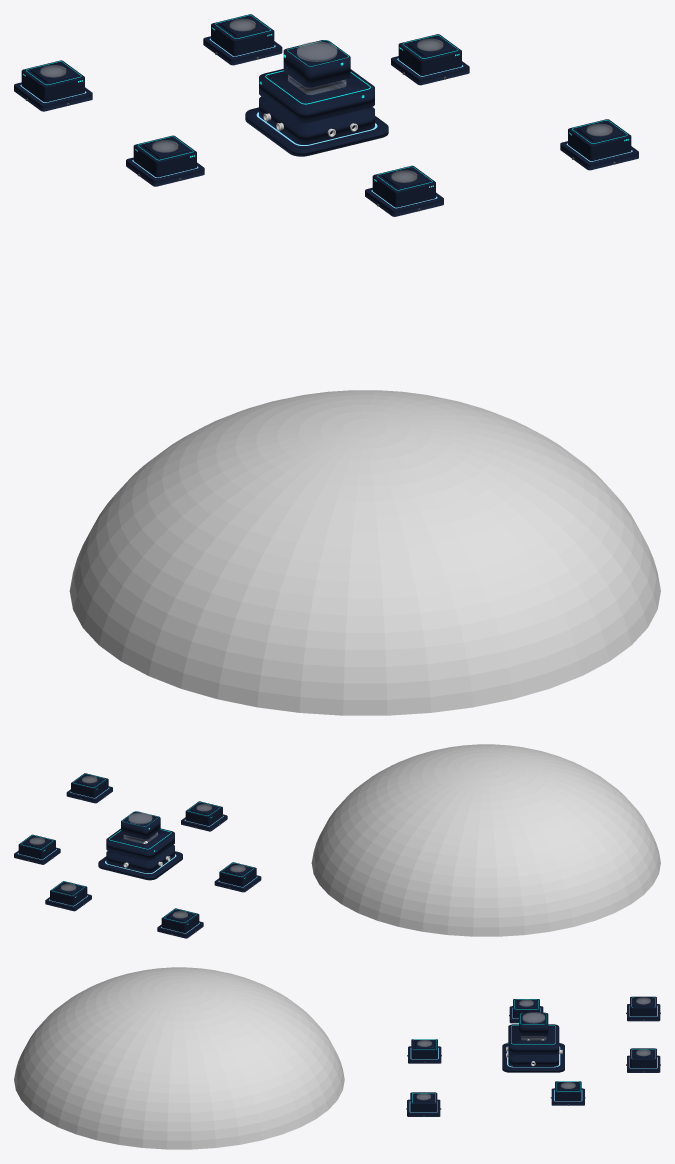
File: Test_for_blender(12)copy.glb
3 views of the same model, one above another, from view 1: azimuth 30°, elevation 25°; view 2: azimuth 150°, elevation 25°; view 3: azimuth 270°, elevation 25° (orthographic). The views are drawn at different scales.
Visible parts, largest first — view 1: Sphere, Cube, Platform.004, Platform.003, Platform.005, Platform, Platform.001, Platform.002; view 2: Sphere, Cube, Platform.003, Platform.004, Platform.005, Platform.001, Platform, Platform.002; view 3: Sphere, Cube, Platform.003, Platform, Platform.002, Platform.001, Platform.004, Platform.005.
Part boxes in pixels (x1,y1,x2,y2): Sphere: [69, 390, 660, 715]; Cube: [245, 40, 388, 156]; Platform.004: [203, 14, 282, 65]; Platform.003: [14, 60, 92, 111]; Platform.005: [126, 135, 204, 186]; Platform: [365, 165, 443, 216]; Platform.001: [391, 34, 469, 85]; Platform.002: [560, 119, 638, 170]; Sphere: [311, 744, 660, 936]; Cube: [98, 811, 182, 880]; Platform.003: [157, 908, 203, 938]; Platform.004: [45, 881, 91, 911]; Platform.005: [214, 862, 261, 892]; Platform.001: [14, 834, 60, 864]; Platform: [181, 801, 227, 831]; Platform.002: [66, 773, 112, 803]; Sphere: [14, 967, 344, 1149]; Cube: [502, 1012, 564, 1072]; Platform.003: [627, 996, 660, 1021]; Platform: [408, 1039, 441, 1063]; Platform.002: [407, 1092, 440, 1116]; Platform.001: [551, 1081, 584, 1105]; Platform.004: [627, 1048, 660, 1072]; Platform.005: [509, 999, 543, 1023].
Bounding box in the file's own units: 62.26 × 19.71 × 84.82.
